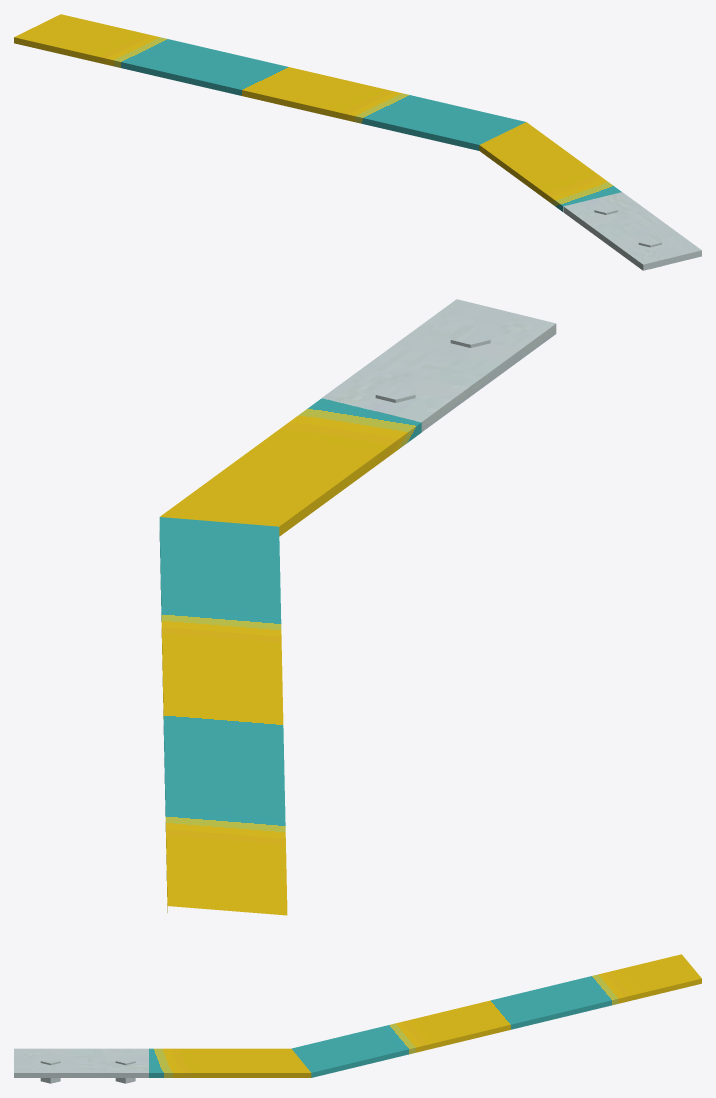
Rendered from jdyx066-geode.glb.
The picture shows the model from 3 angles, top to bottom: view 1: azimuth 30°, elevation 25°; view 2: azimuth 150°, elevation 25°; view 3: azimuth 270°, elevation 25°; orthographic projection. The views are drawn at different scales.
Visible parts, largest first — view 1: Node; view 2: Node; view 3: Node.
Part boxes in pixels (box(x1,y1,x2,y2)): Node: box(14, 14, 701, 270); Node: box(159, 299, 556, 915); Node: box(14, 954, 701, 1083).
Bounding box in the file's own units: 0.2501 × 0.0193 × 0.5978.
Materials: 2 (2 with a texture image).
